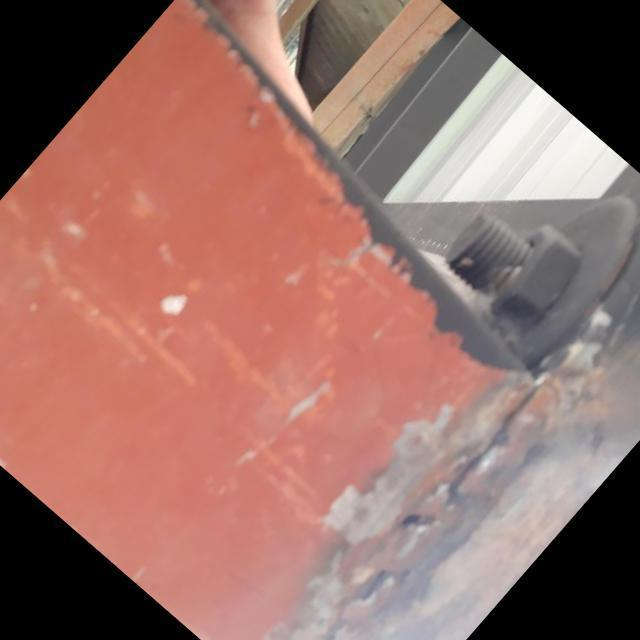defect: (393, 379, 544, 535), (347, 560, 423, 611)
